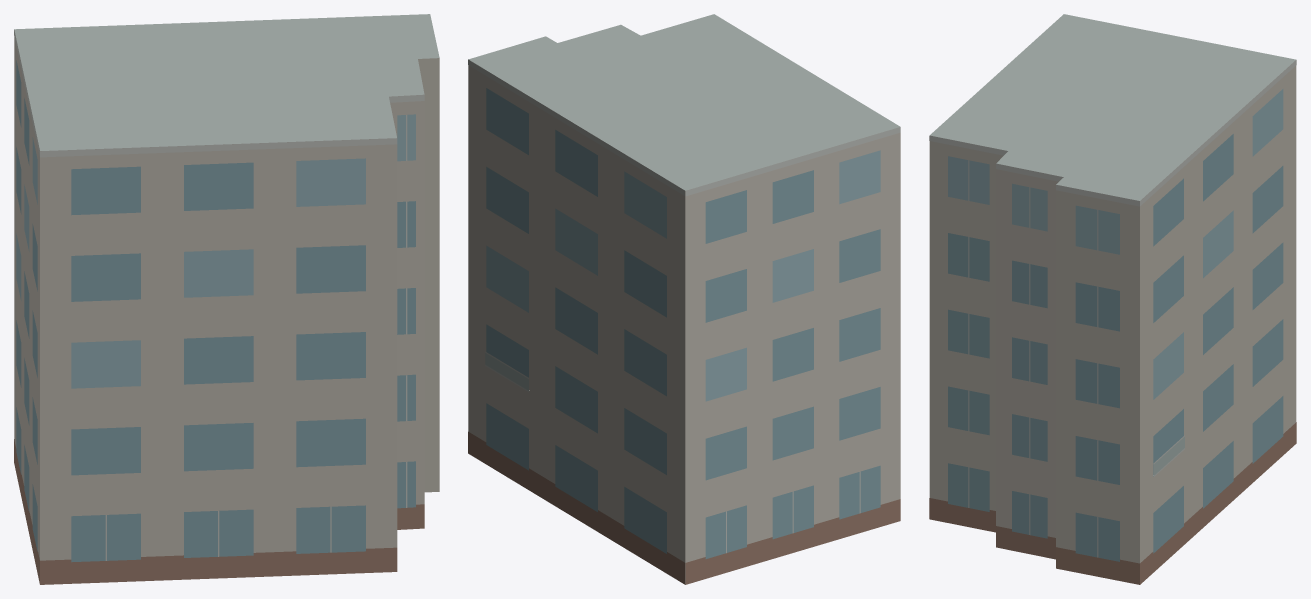
File: survey-upis-32708793.glb
The picture shows the model from 3 angles, left to right: view 1: azimuth 30°, elevation 25°; view 2: azimuth 150°, elevation 25°; view 3: azimuth 270°, elevation 25°; orthographic projection. The views are drawn at different scales.
Parts seen in each view (by area): view 1: survey-upis-32708793.tmp; view 2: survey-upis-32708793.tmp; view 3: survey-upis-32708793.tmp.
Part boxes in pixels (<box>): survey-upis-32708793.tmp: <box>14,14,439,584</box>; survey-upis-32708793.tmp: <box>468,14,900,584</box>; survey-upis-32708793.tmp: <box>929,14,1296,584</box>.
Size of the model in its own units: 17.62 by 16.85 by 14.61.
